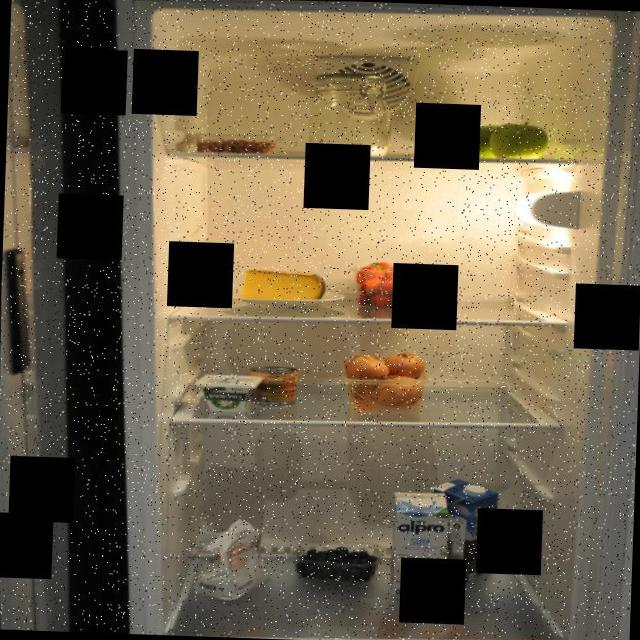Cebolla: (339, 348, 424, 408)
Gambas/Langostinos: (192, 129, 279, 157)
Leche: (426, 475, 499, 587), (388, 488, 454, 598)
Manzana: (432, 115, 550, 162)
Queso: (240, 264, 330, 306)
